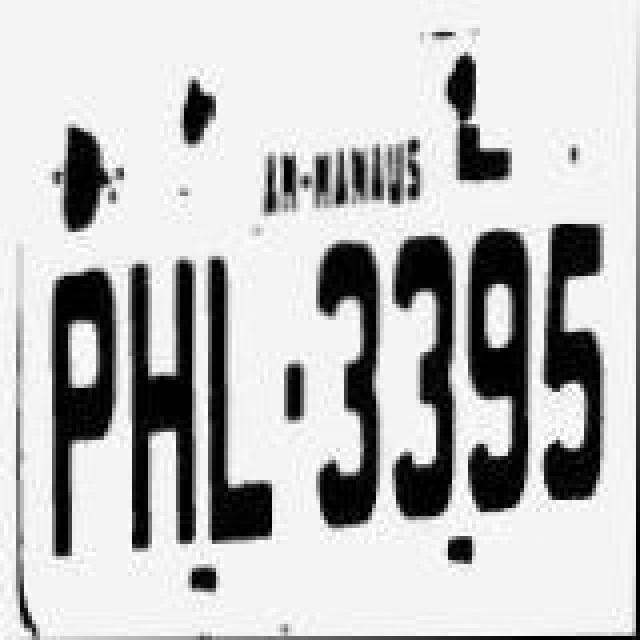3: (390, 228, 470, 520), (314, 236, 386, 528)
5: (540, 218, 632, 510)
9: (460, 228, 544, 520)
H: (126, 258, 206, 550)
L: (198, 258, 278, 546)
P: (46, 262, 126, 554)
